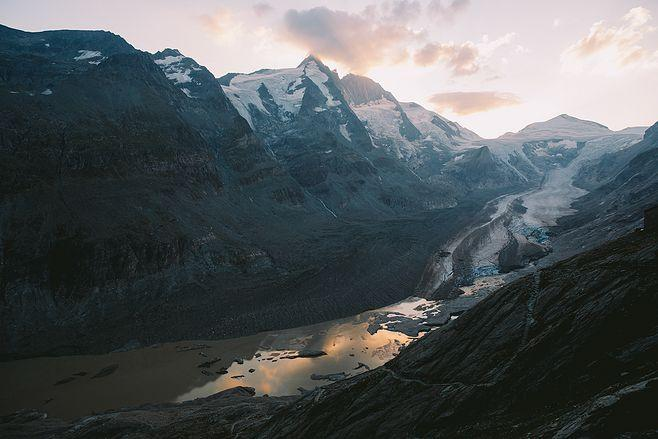mountain: (0, 57, 619, 333)
